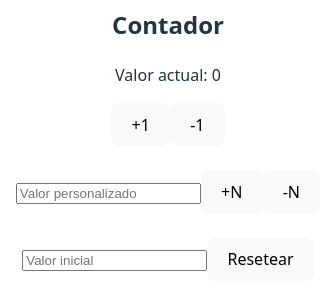
decrementa en 1 al hacer clic en "-1"
Click the button "-1": (197, 125) [170, 103, 225, 146]
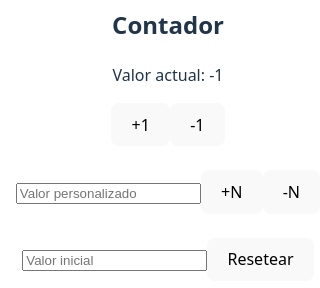
expect the text "Valor actual: -1" is shown: met, box [112, 64, 224, 86]
